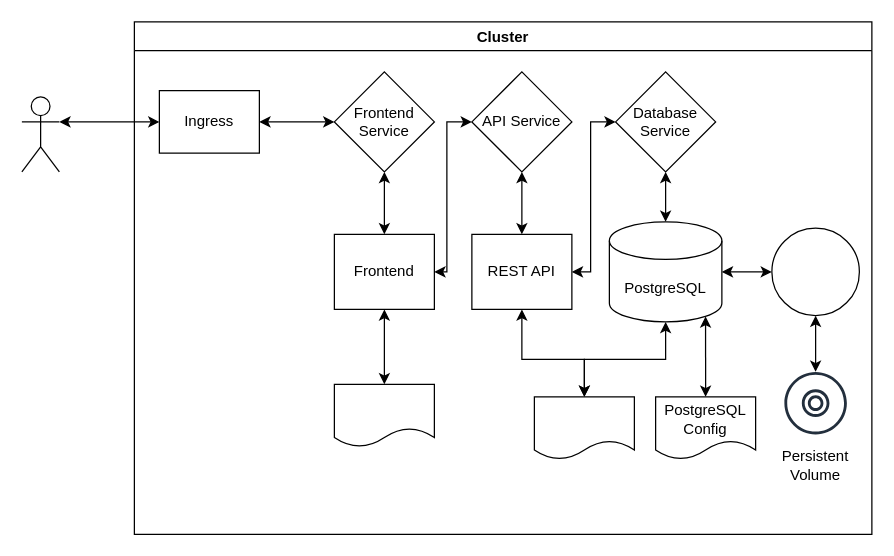
The diagram is 894 pixels wide and 556 high, and some of its shapes have lost their labels. Here are the shapes that lost their labels. From the top down, the centre of each, then its label:
At [40,134]: "User".
At [815,271]: "Persistent Volume Claim".
At [383,415]: "Frontend Secret".
At [583,427]: "PostgreSQL Secret".
